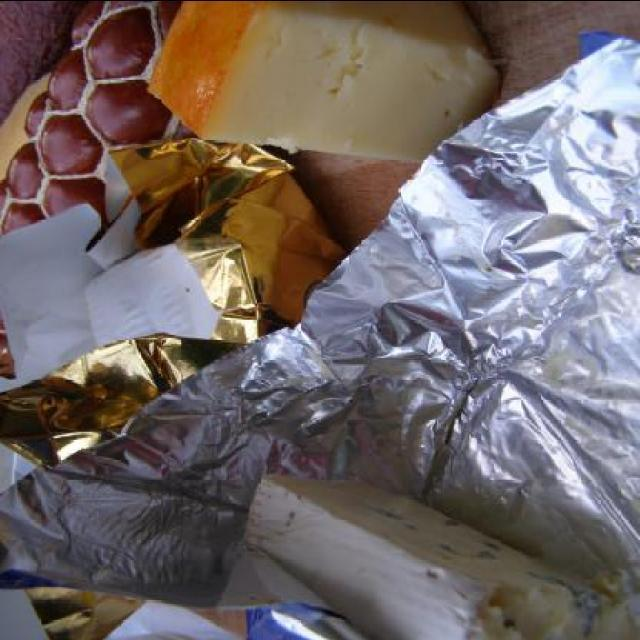Cheese: (237, 471, 625, 640), (144, 0, 502, 163)
